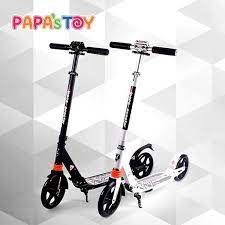kick_handler: (110, 41, 179, 59), (49, 40, 109, 57)
kick_wheel: (42, 175, 68, 209), (101, 184, 125, 218), (174, 154, 189, 180)
